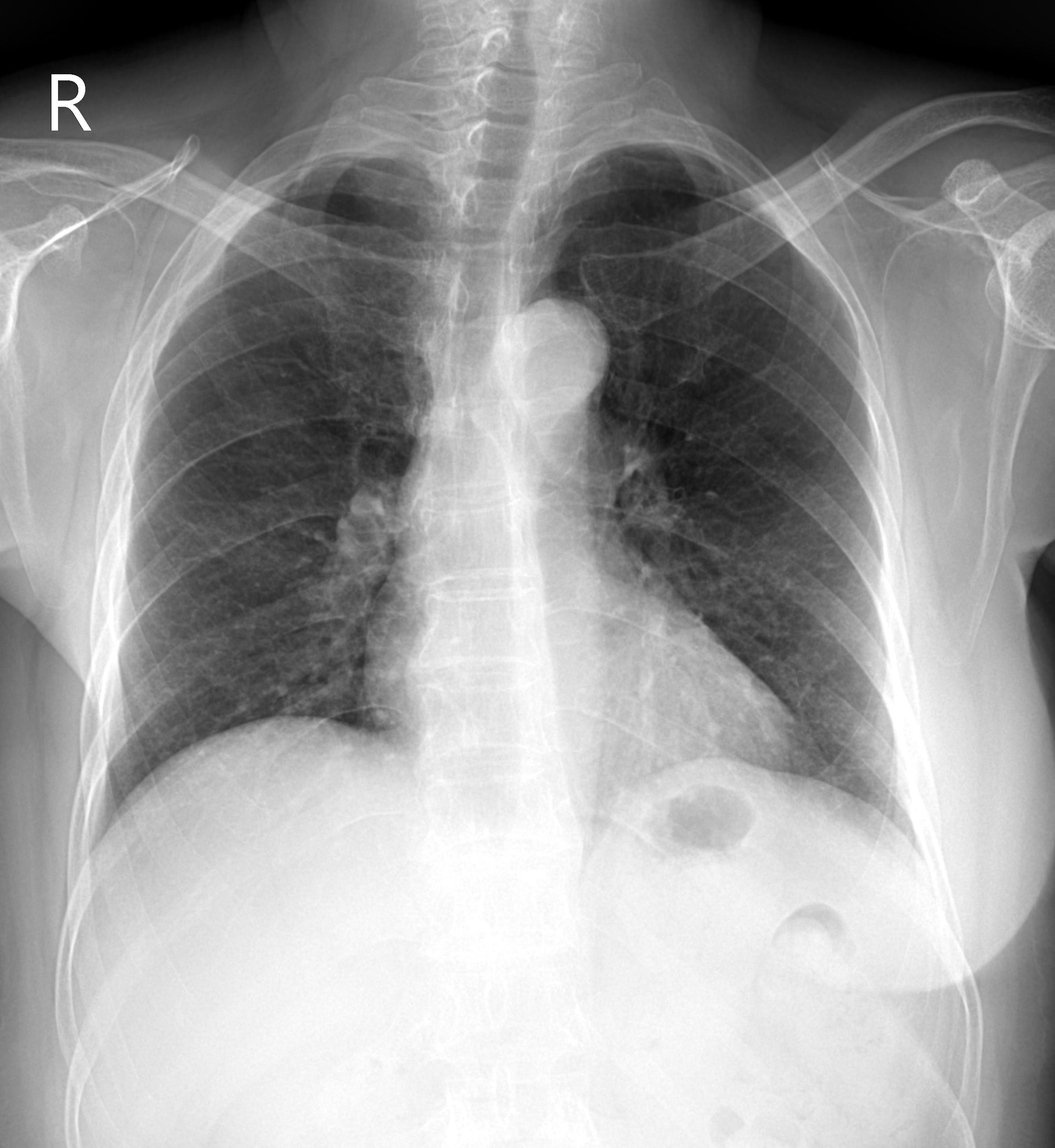Cardiomegaly: (358, 616, 799, 781)
Pleural thickening: (569, 140, 730, 178), (266, 150, 383, 195)
